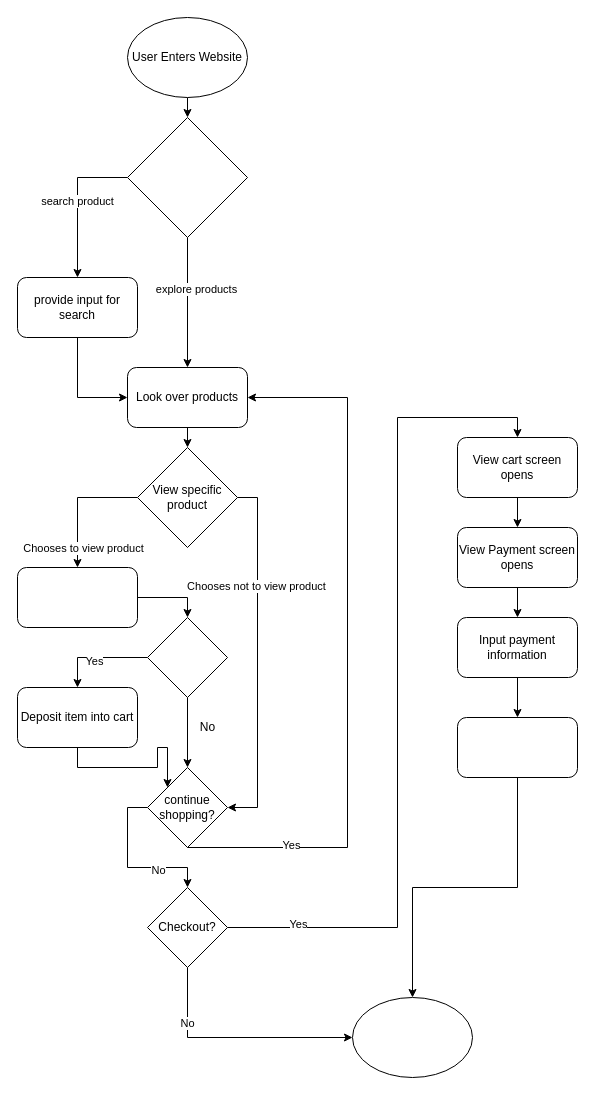
Some shapes in this 595 by 1095 pixel diagram are drawn without their labels. Each missing label, with the centre of its shape:
"Add to cart?" goes at point 187,657.
"Order Confirmation Screen pops up" goes at point 517,747.
"Search product or explore product" goes at point 187,177.
"User Leaves Website" goes at point 412,1037.
"Webpage opens" goes at point 77,597.
